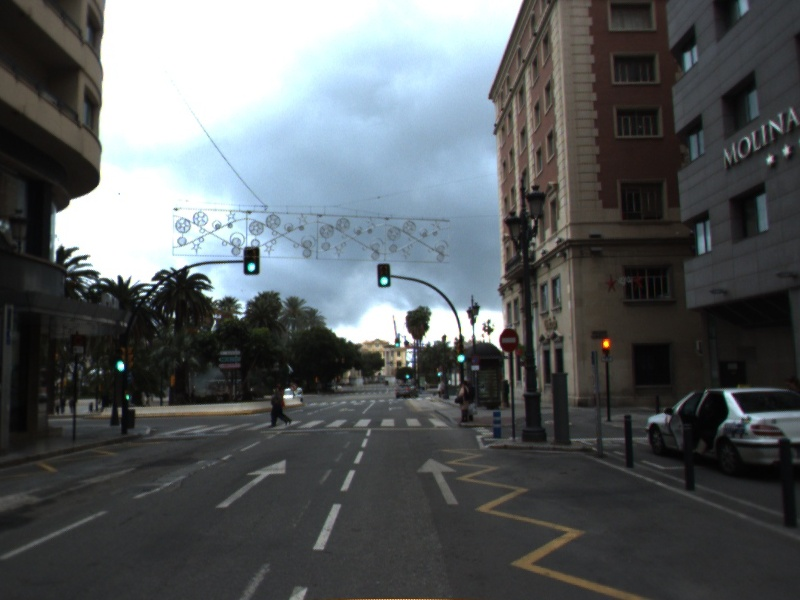STRAIGHT: (213, 457, 289, 510), (414, 455, 462, 506)
STRAIGHT_LEFT: (1, 466, 137, 512)
